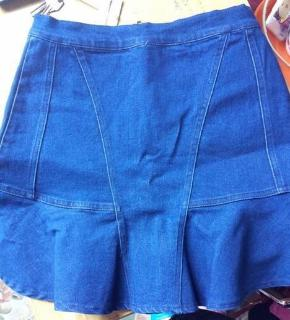skirt: (1, 5, 290, 315)
